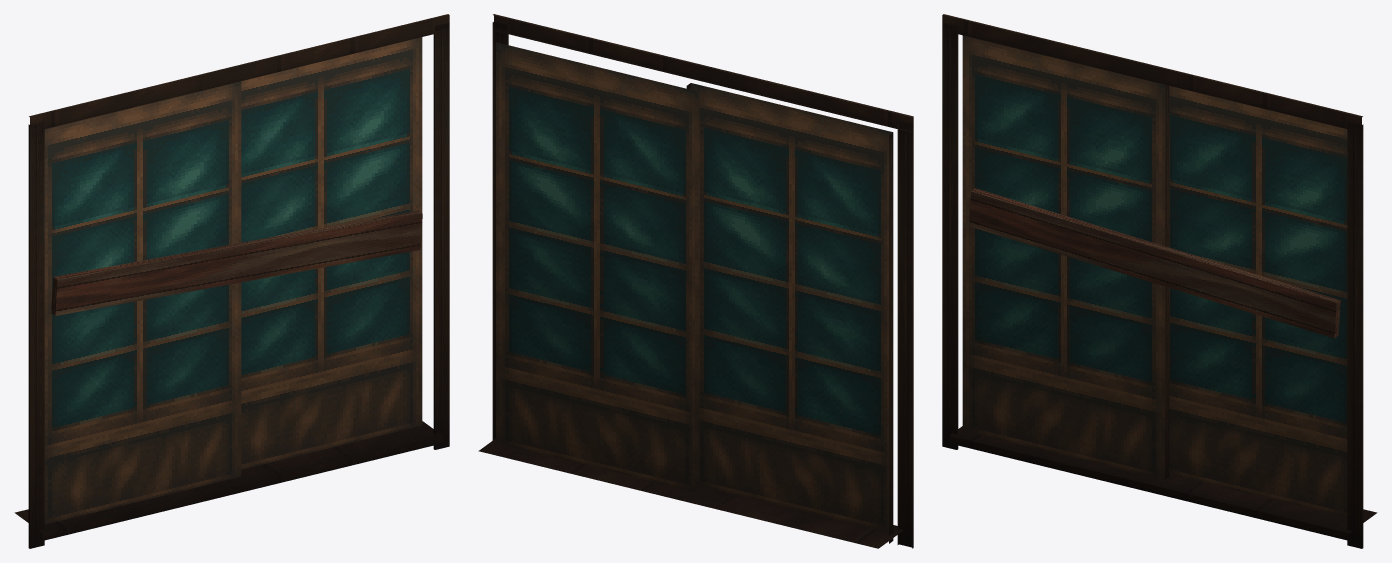
Rendered from prop_sash-16-16-5.glb.
The picture shows the model from 3 angles, left to right: view 1: azimuth 30°, elevation 25°; view 2: azimuth 150°, elevation 25°; view 3: azimuth 330°, elevation 25°; orthographic projection.
Parts seen in each view (by area): view 1: prop_sash-16-16-5; view 2: prop_sash-16-16-5; view 3: prop_sash-16-16-5.
Part boxes in pixels (x1,y1,x2,y2): prop_sash-16-16-5: (14,14,449,548); prop_sash-16-16-5: (478,14,913,548); prop_sash-16-16-5: (942,14,1377,548).
Bounding box in the file's own units: 1.72 × 1.69 × 0.2.
Materials: 3 (3 with a texture image).
